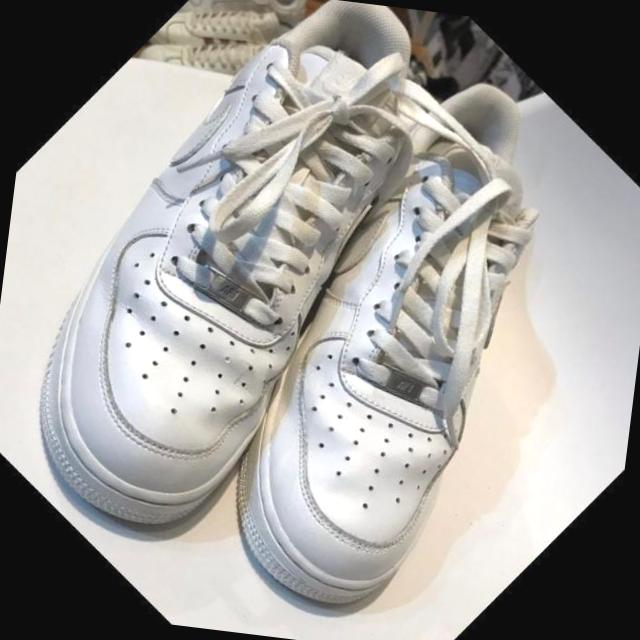nike_original_airforce: (0, 0, 562, 603), (96, 25, 640, 640)
